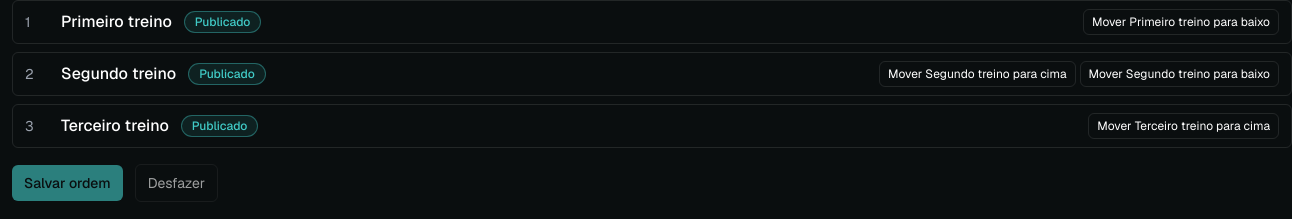
Test: ReorderList: salvar e desfazer › 'Salvar ordem' e 'Desfazer' começam desabilitados e habilitam após mudar
Expected: the button "Salvar ordem" is disabled, [12,165,123,201]
Expected: the button "Desfazer" is disabled, [135,164,218,202]
Click the button "Mover Primeiro treino para baixo" at point(1181, 22), box [1083,9,1279,35]
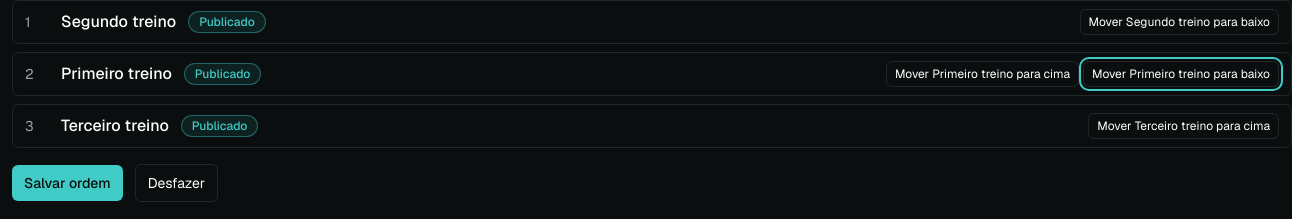
Expected: the button "Salvar ordem" is enabled, [12,165,123,201]
Expected: the button "Desfazer" is enabled, [135,164,218,202]
